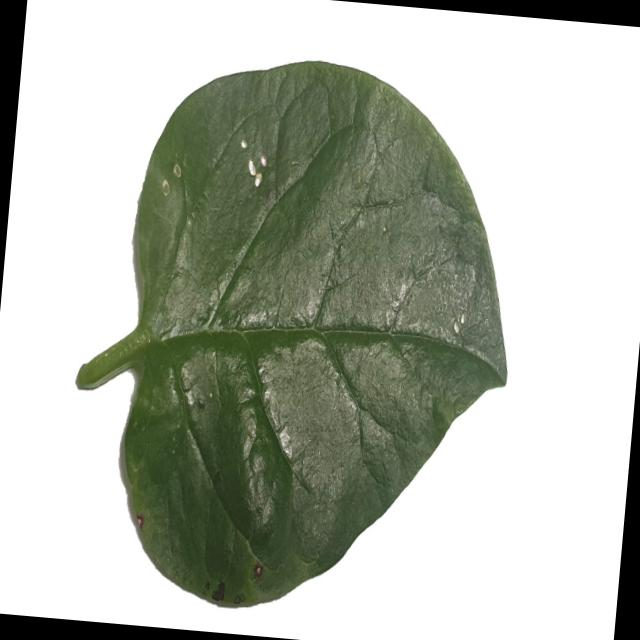Medicinal-Basale: (58, 38, 534, 631)
